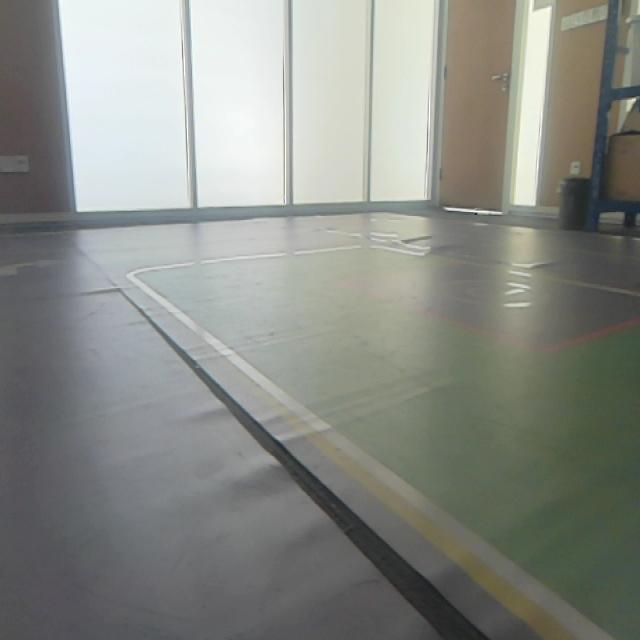right_lane: (135, 277, 615, 640)
